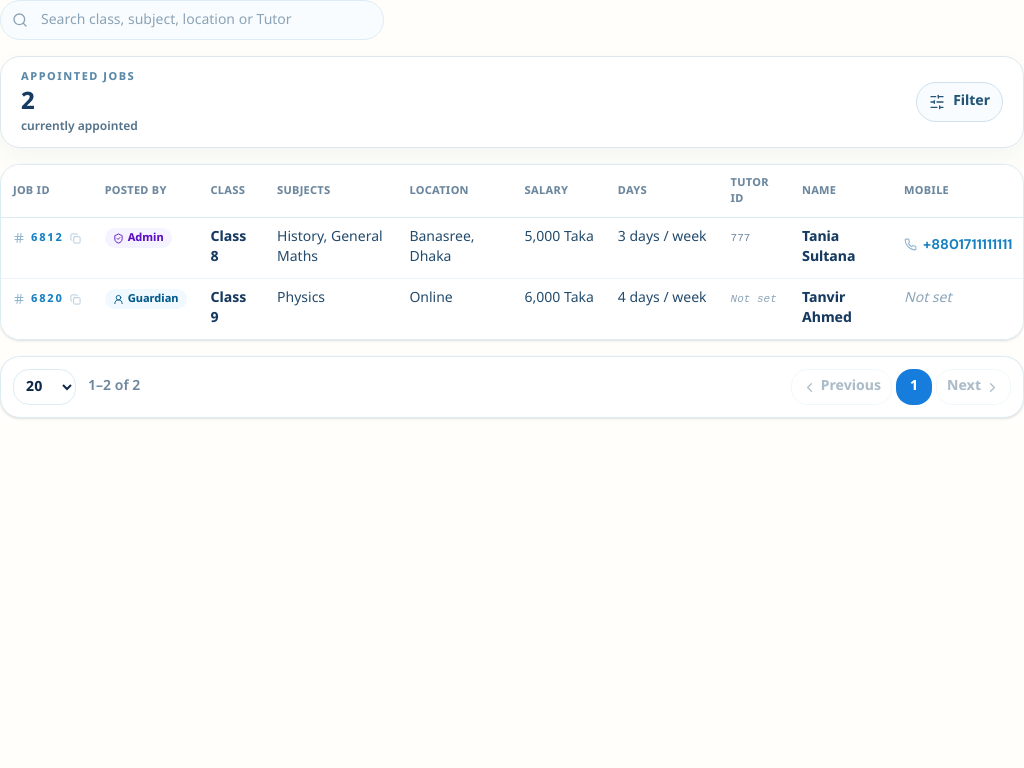
Test: the filter card and panel › will not apply a date range the wrong way round
Step 1. Click the button "Filter" → (960, 102), box [916,82,1003,122]
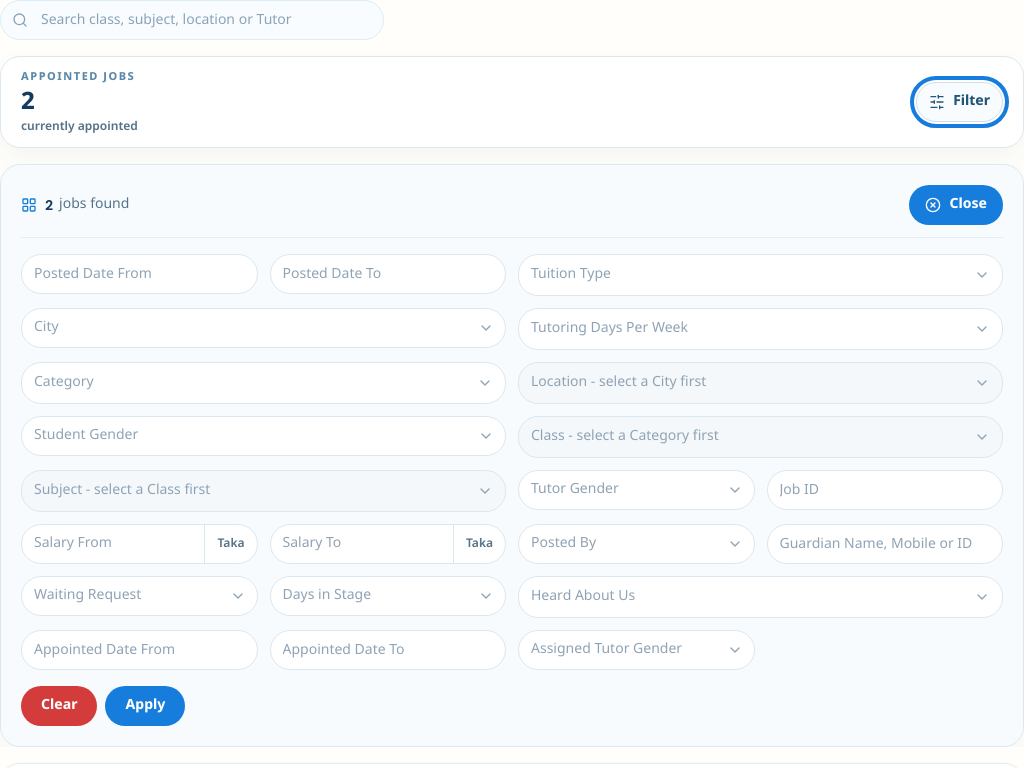
Step 2. Type "2026-10-09" into the field labelled "Appointed Date From" → (139, 650), box [21,630,258,670]
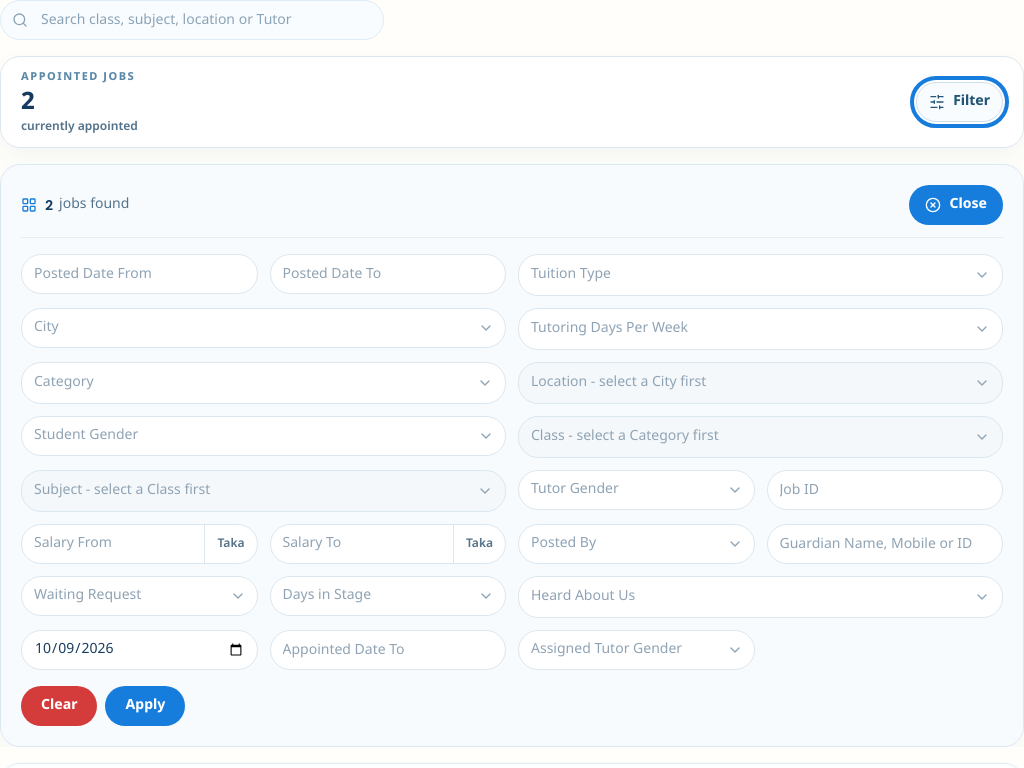
Step 3. Type "2026-10-01" into the field labelled "Appointed Date To" → (388, 650), box [270,630,506,670]
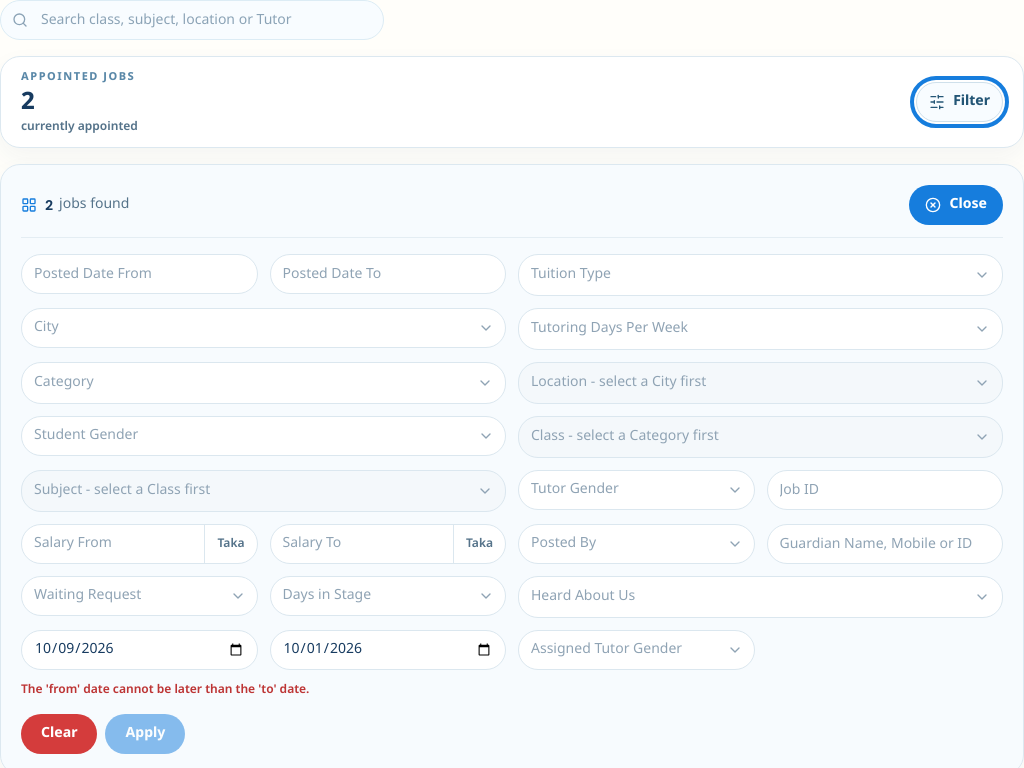
expect the message "The 'from' date cannot be later than the 'to' date." is shown: met, box [21,682,309,698]
expect the button "Apply" is disabled: met, box [106,714,185,754]
